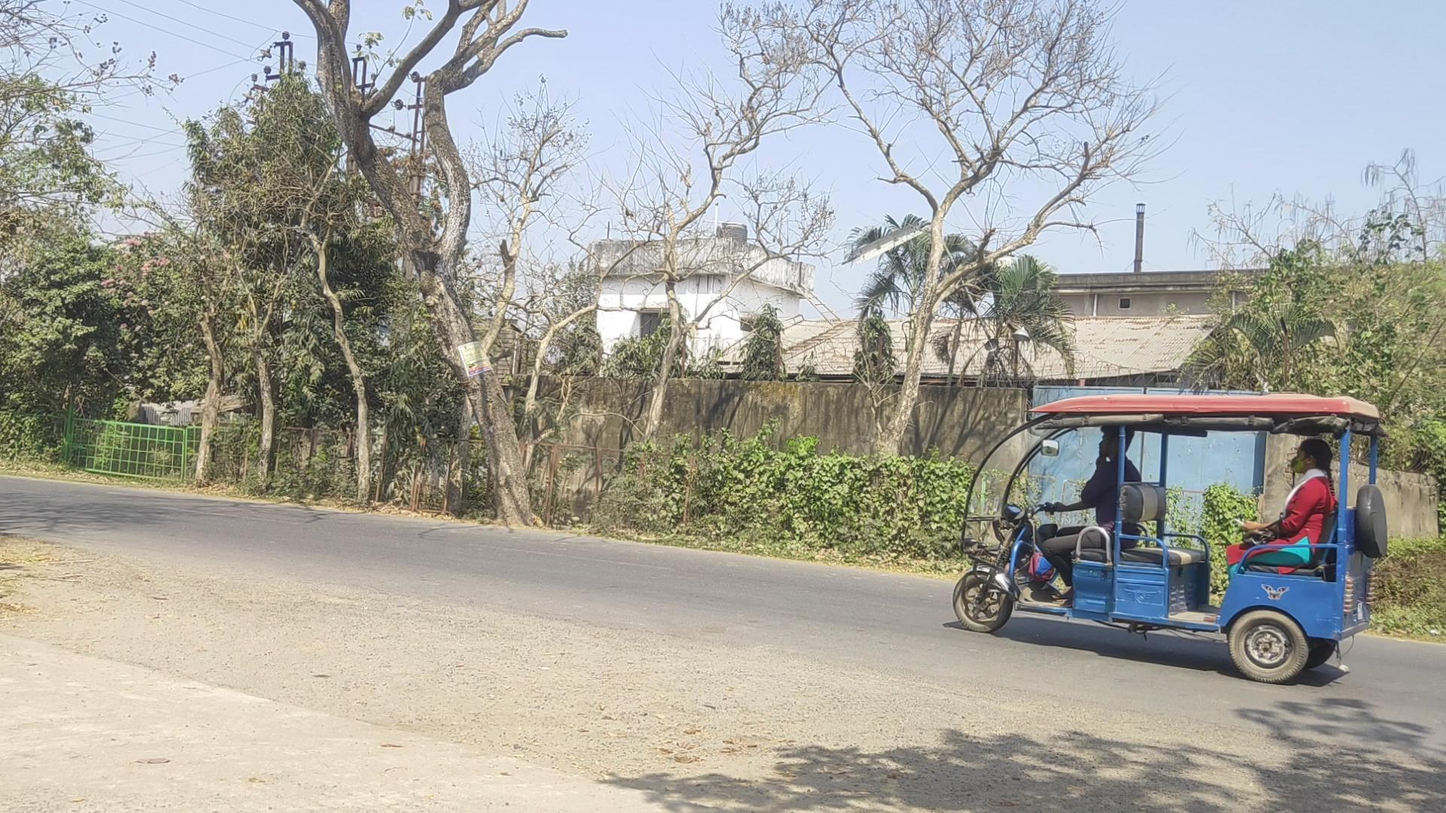Auto: (953, 394, 1389, 684)
